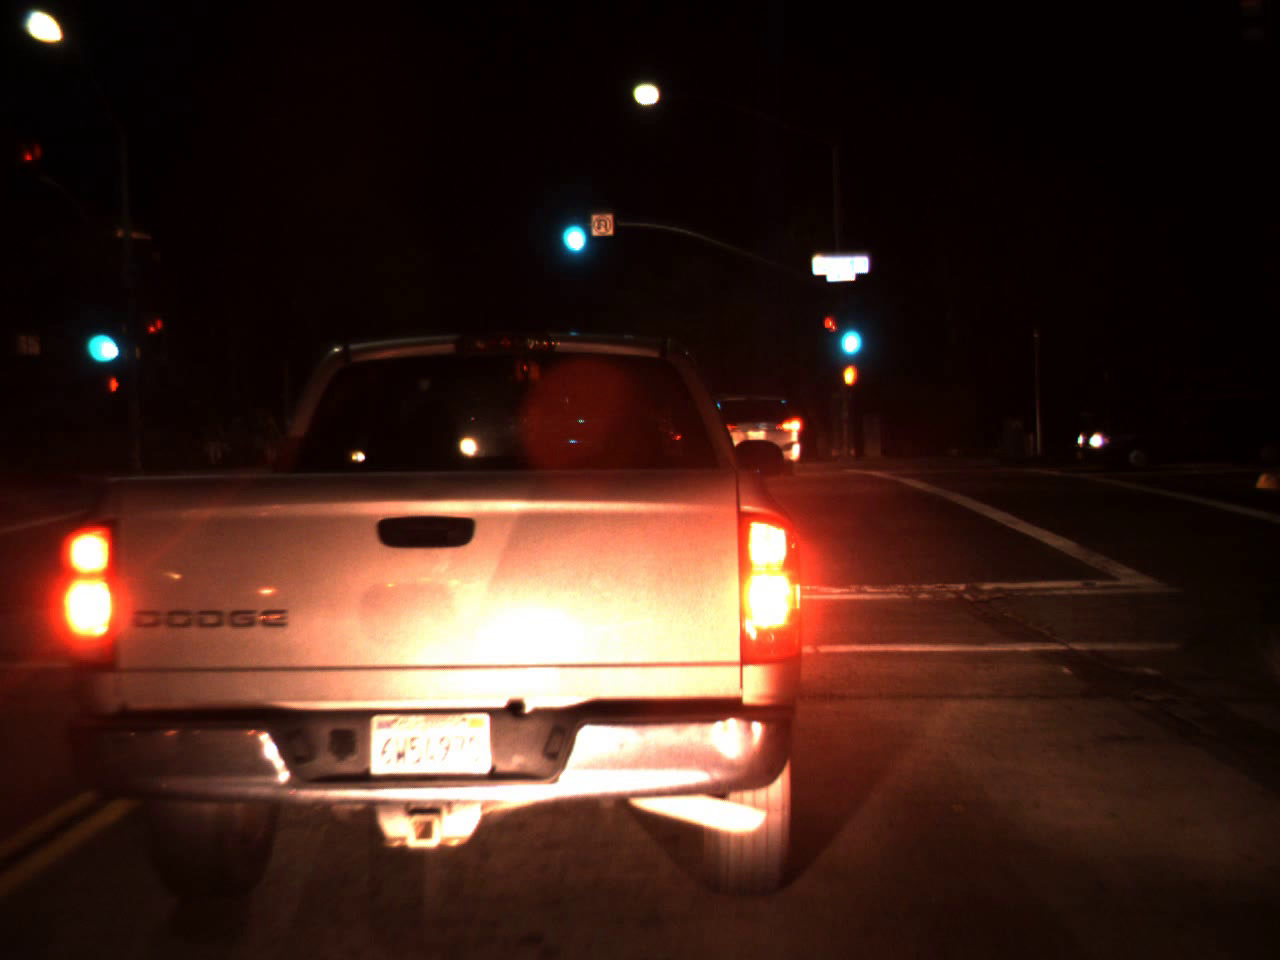go: (78, 298, 121, 373), (553, 191, 590, 263), (833, 299, 865, 365)
